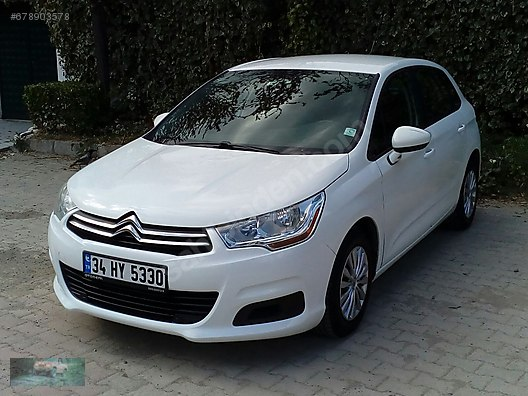citroen: (42, 43, 488, 356)
